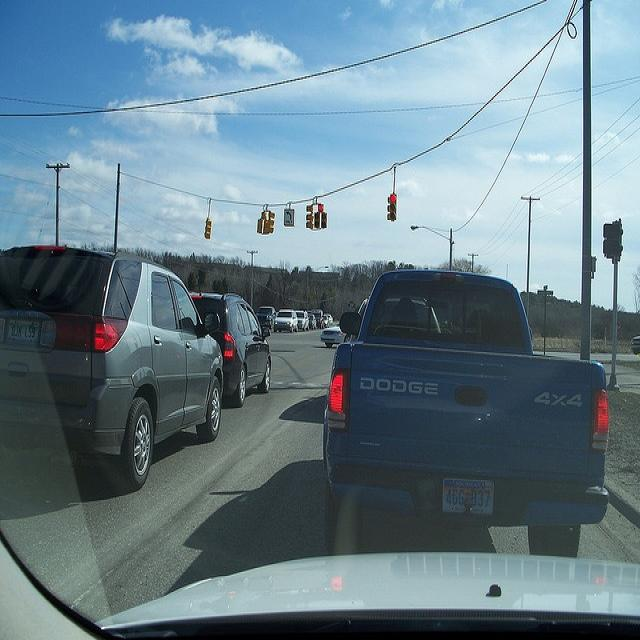car: (5, 239, 225, 481), (188, 288, 271, 404), (319, 319, 352, 345), (271, 305, 297, 332), (255, 304, 276, 327), (295, 310, 308, 330), (309, 306, 322, 326), (307, 312, 315, 328), (322, 312, 332, 321), (322, 314, 328, 326)
pole: (574, 1, 600, 356), (609, 257, 622, 388)
truck: (321, 266, 609, 558)
